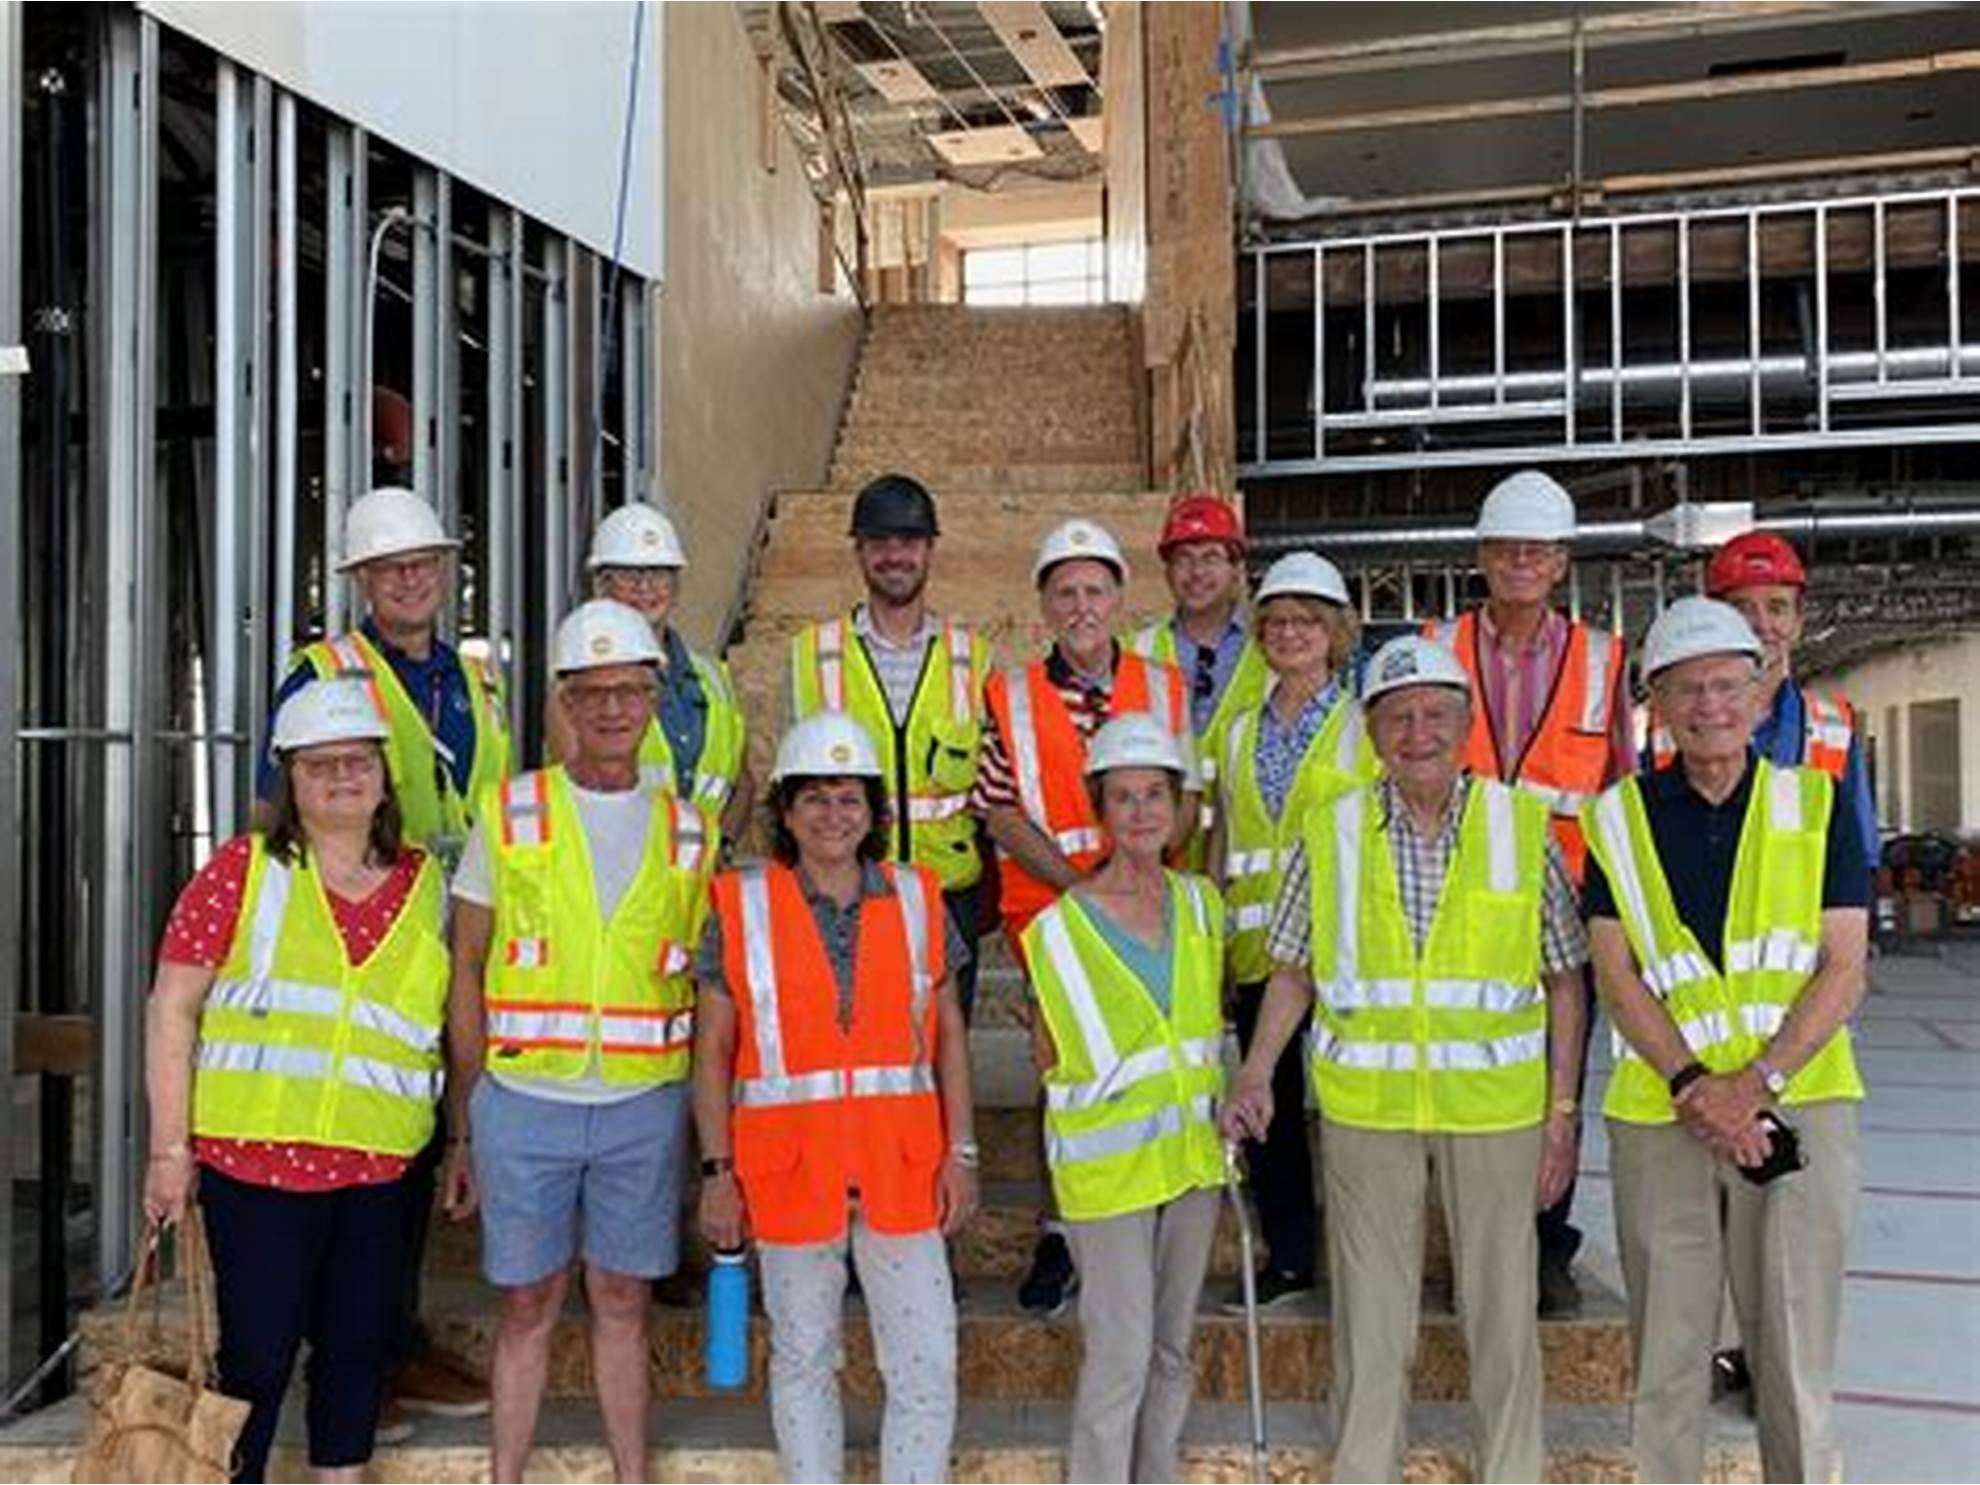Helmet: (1620, 590, 1801, 792), (530, 601, 691, 788), (1331, 618, 1492, 796), (758, 707, 900, 888), (1002, 509, 1154, 674), (257, 674, 399, 849), (320, 479, 468, 641), (1459, 471, 1598, 636), (828, 459, 959, 627), (569, 491, 719, 626), (1702, 519, 1826, 663), (1247, 541, 1361, 696), (1068, 704, 1194, 799), (1155, 490, 1246, 611)
Reflective vest: (1582, 766, 1883, 1136), (714, 847, 971, 1260), (193, 824, 458, 1168), (1306, 785, 1550, 1154), (477, 763, 731, 1109), (1018, 874, 1246, 1232), (1420, 608, 1631, 900), (979, 658, 1194, 931), (798, 619, 990, 874), (290, 633, 511, 839), (1222, 688, 1370, 980)
